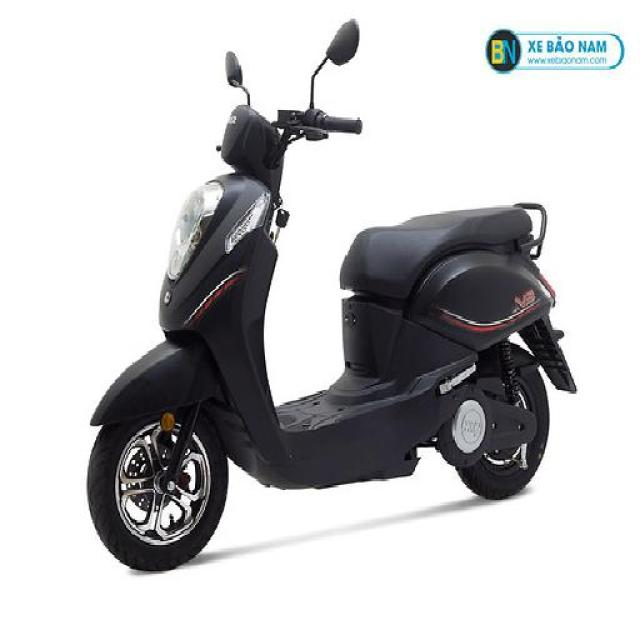All: (83, 18, 570, 573)
Head: (197, 87, 372, 183)
Tail: (475, 191, 553, 265)
